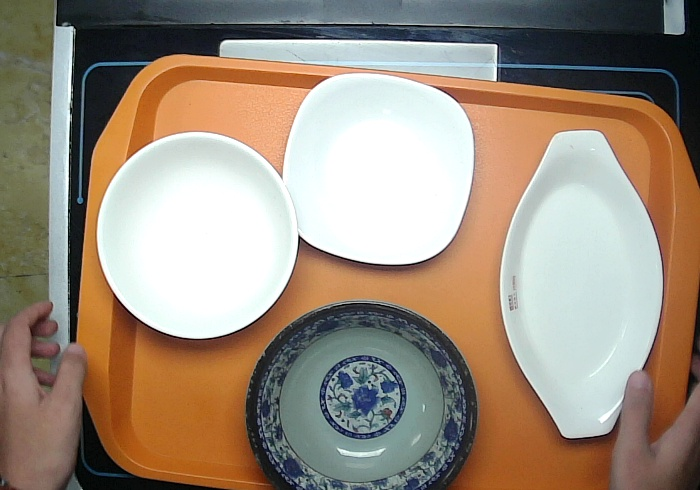ZNLD-Qing_Hua_Wan: (242, 297, 480, 490)
ZNLD-Si_Fang_Wan: (281, 70, 476, 267)
ZNLD-Tang_Wan: (93, 128, 301, 342)
ZNLD-Yu_Pan: (497, 127, 666, 441)
